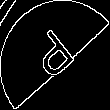P_SE: (27, 24, 83, 86)
